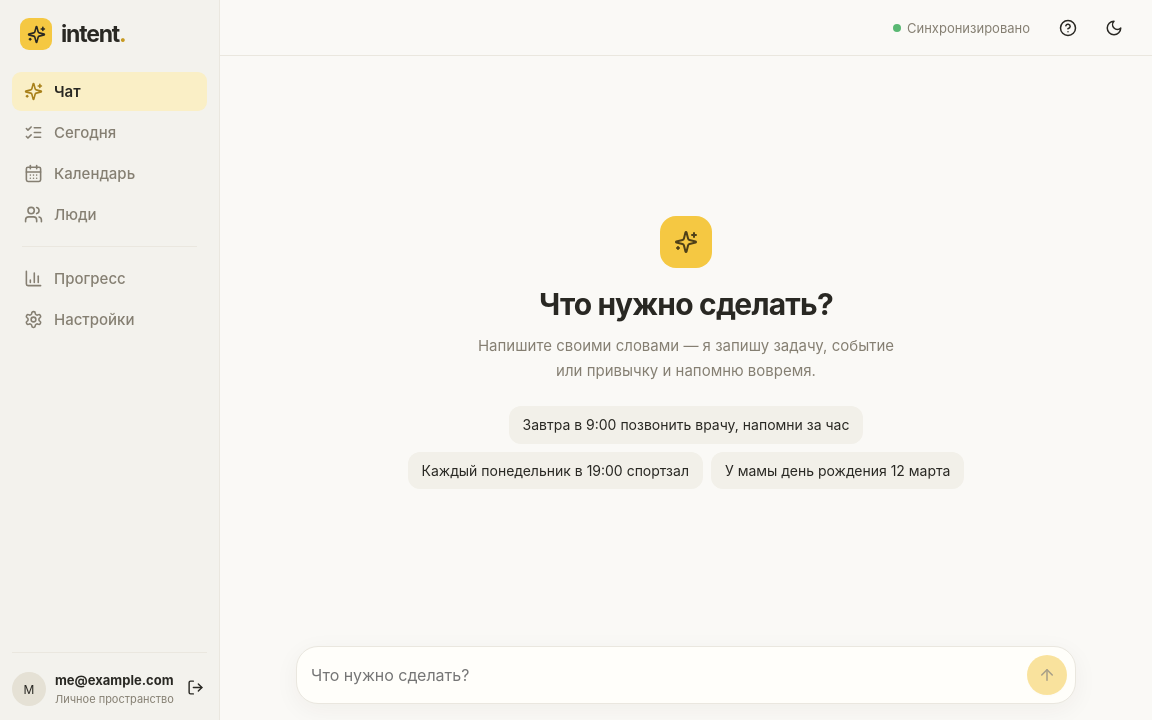
it: saves a simple task without opening or filling advanced settings
Click the button "Сегодня": coordinates (110, 132) [12, 113, 207, 152]
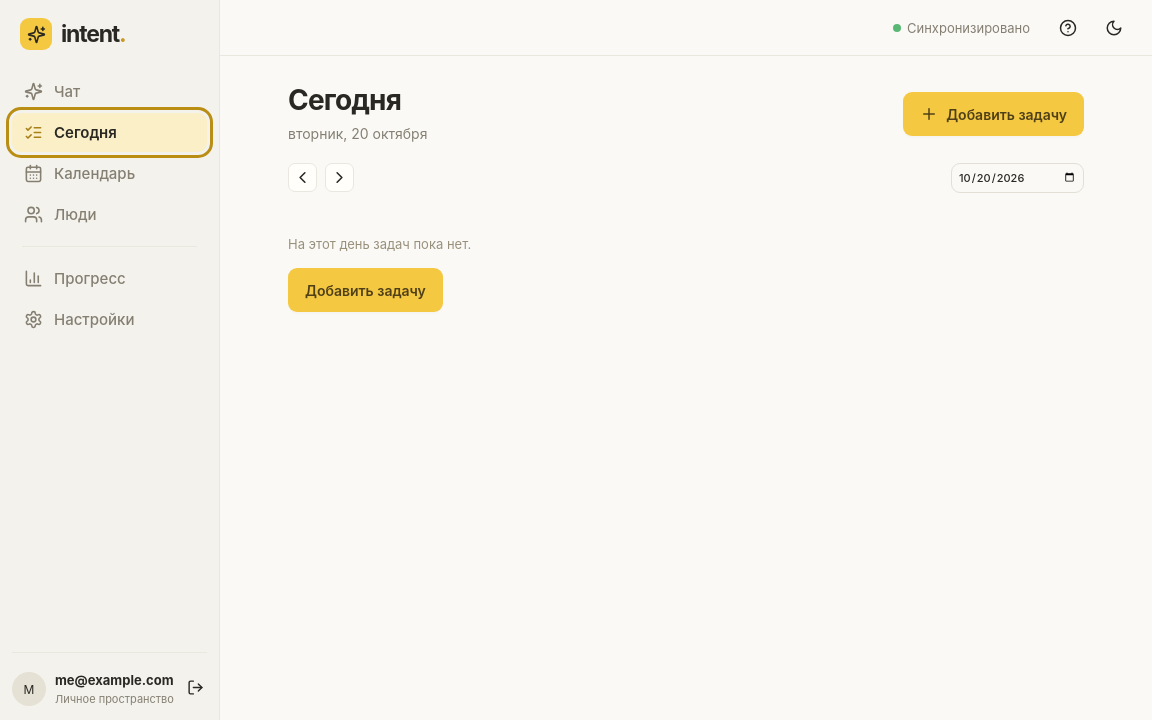
Click the 1st button "Добавить задачу": coordinates (994, 114) [903, 92, 1084, 136]
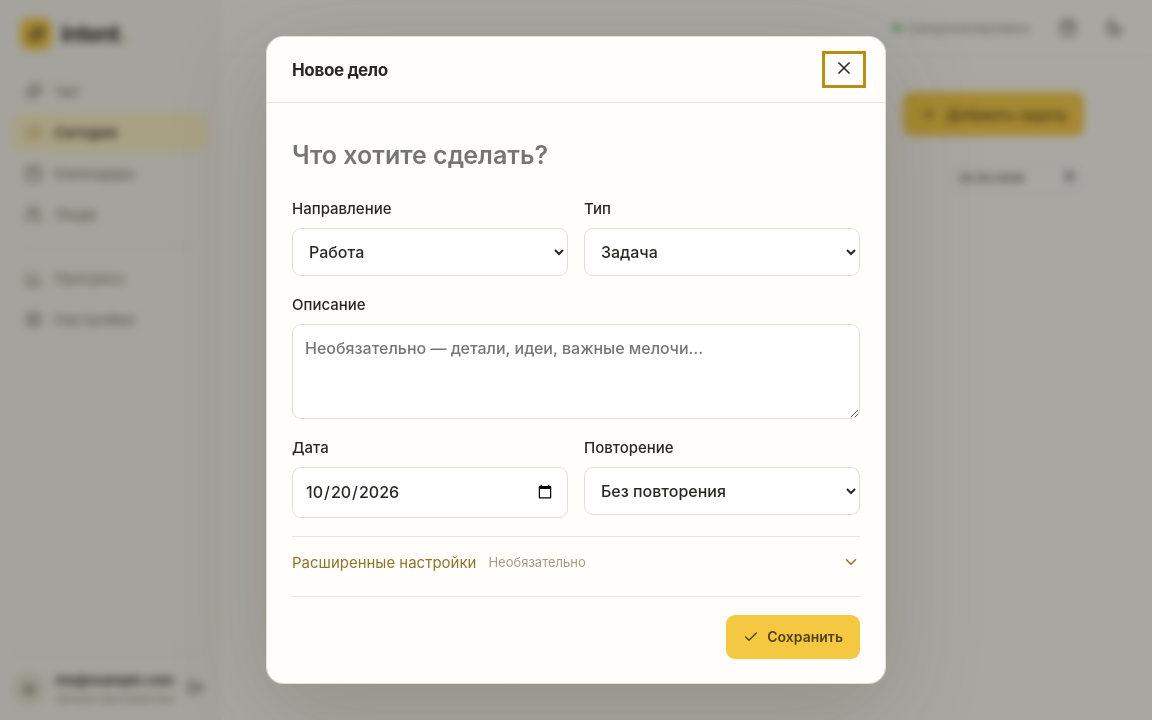
In the field named "Название задачи": coordinates (576, 155) [292, 128, 860, 182], type "Простое дело"
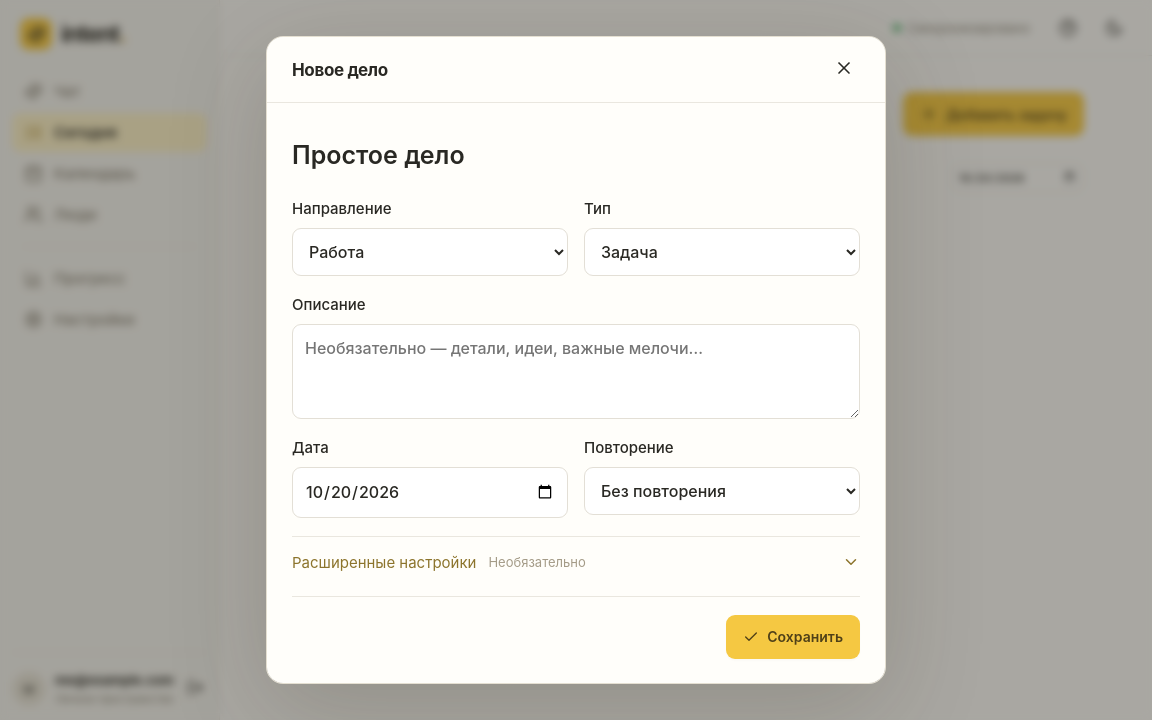
Click the button "Сохранить": coordinates (793, 637) [726, 615, 860, 659]
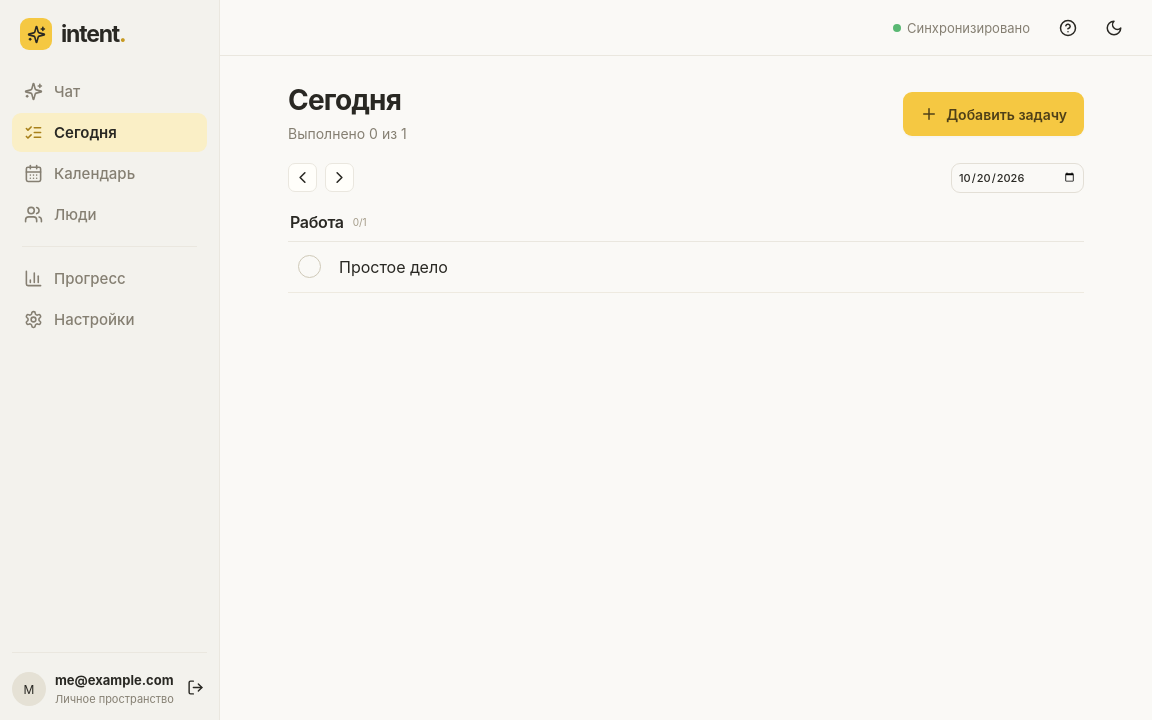
expect the text "Простое дело" is shown: met, box [339, 255, 448, 279]
